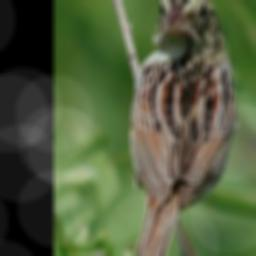Sparrow: (132, 0, 239, 256)
